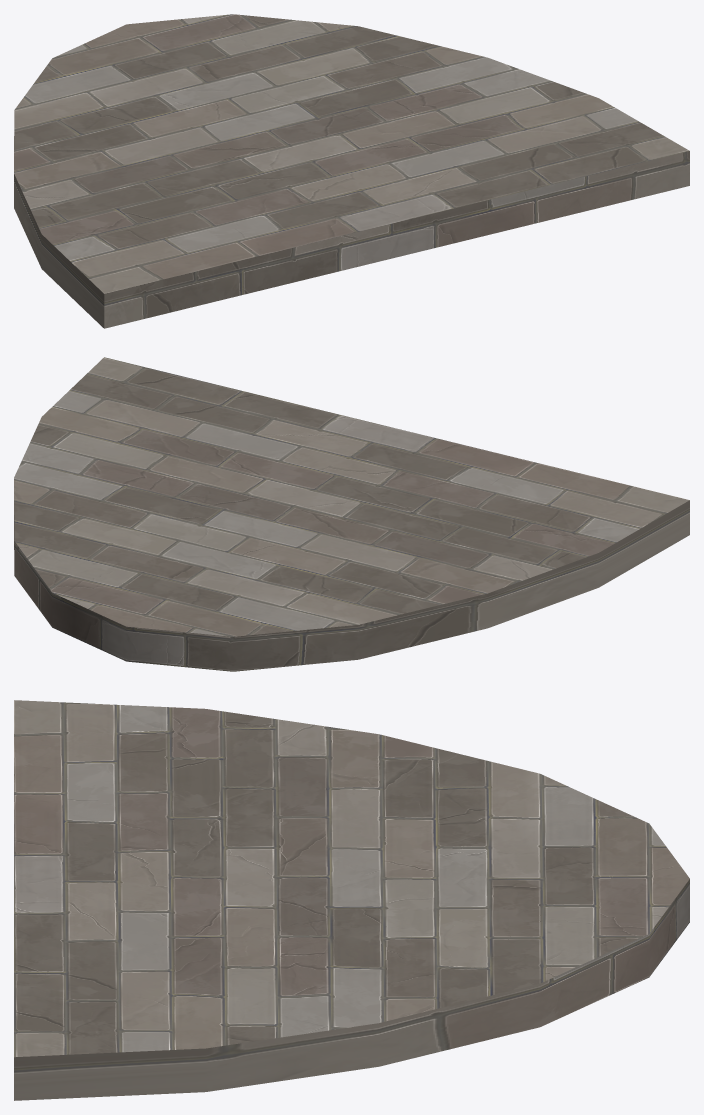
Rendered from balcony_ground_1.obj.
3 views of the same model, one above another, from view 1: azimuth 30°, elevation 25°; view 2: azimuth 150°, elevation 25°; view 3: azimuth 270°, elevation 25° (orthographic). The views are drawn at different scales.
Visible parts, largest first — view 1: balcony_round_floor_1:polySurface957; view 2: balcony_round_floor_1:polySurface957; view 3: balcony_round_floor_1:polySurface957.
Part boxes in pixels (box(x1,y1,x2,y2)): balcony_round_floor_1:polySurface957: box(14, 14, 689, 328); balcony_round_floor_1:polySurface957: box(14, 357, 689, 671); balcony_round_floor_1:polySurface957: box(14, 700, 689, 1100).
Bounding box in the file's own units: 5 × 0.2848 × 4.
